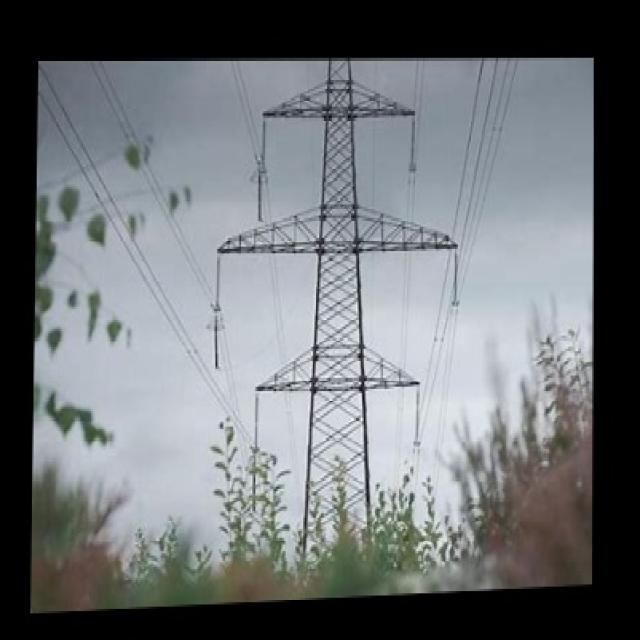utility poles: (207, 347, 471, 578)
